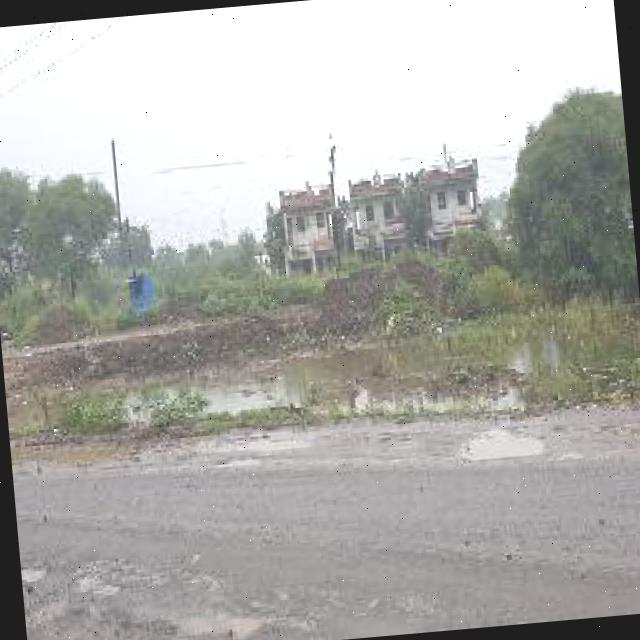waterlogging: (451, 414, 554, 474)
